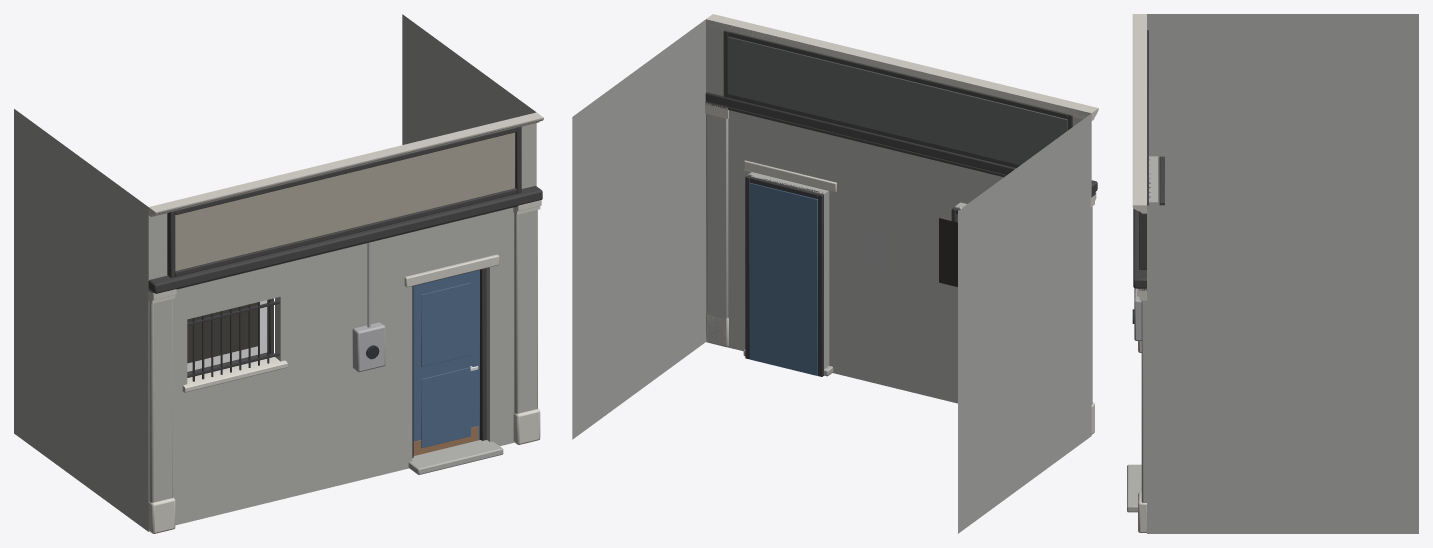
The model's file is wall_5a.glb.
3 views of the same model, side by side, from view 1: azimuth 30°, elevation 25°; view 2: azimuth 150°, elevation 25°; view 3: azimuth 270°, elevation 25° (orthographic).
Visible parts, largest first — view 1: wall_5a; view 2: wall_5a; view 3: wall_5a.
Boxes of the visible parts, x1,y1,x2,y2 form: wall_5a: (14,14,543,533); wall_5a: (572,14,1098,533); wall_5a: (1127,14,1418,533).
Bounding box in the file's own units: 5 × 4 × 3.22.
